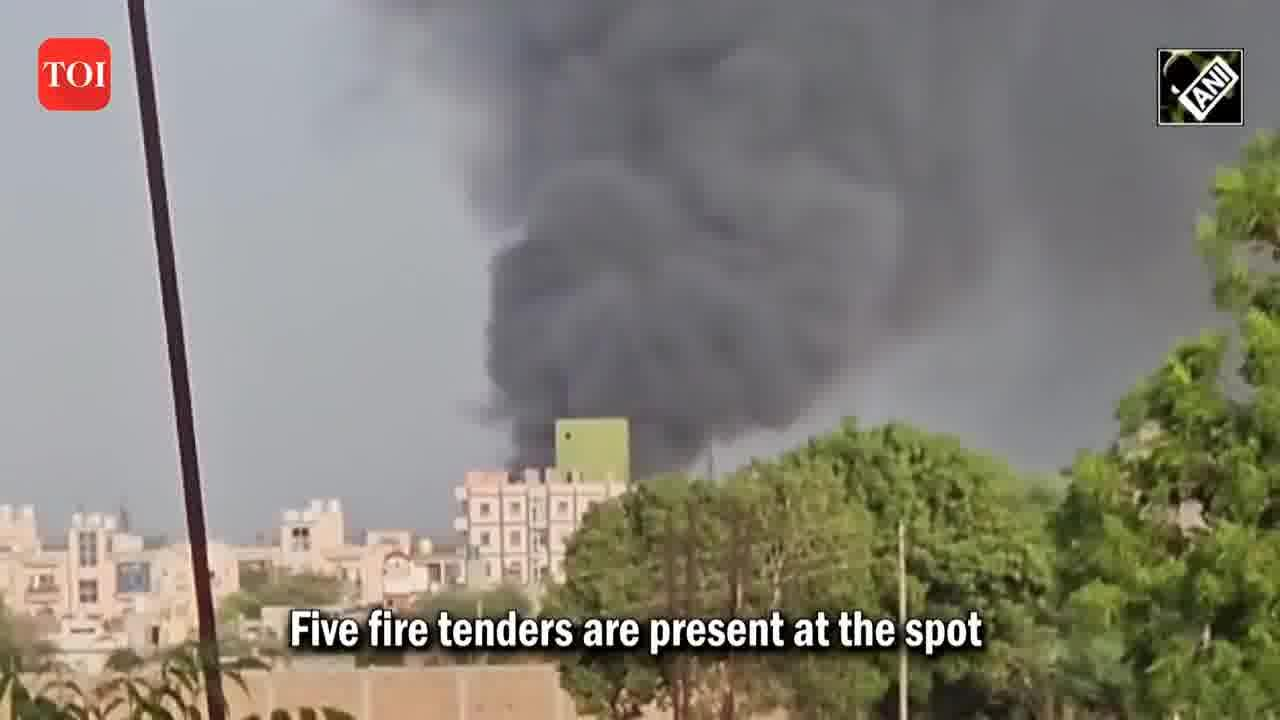smoke: (513, 77, 811, 393)
